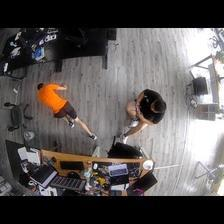fall: (38, 80, 101, 140), (117, 89, 165, 147)
